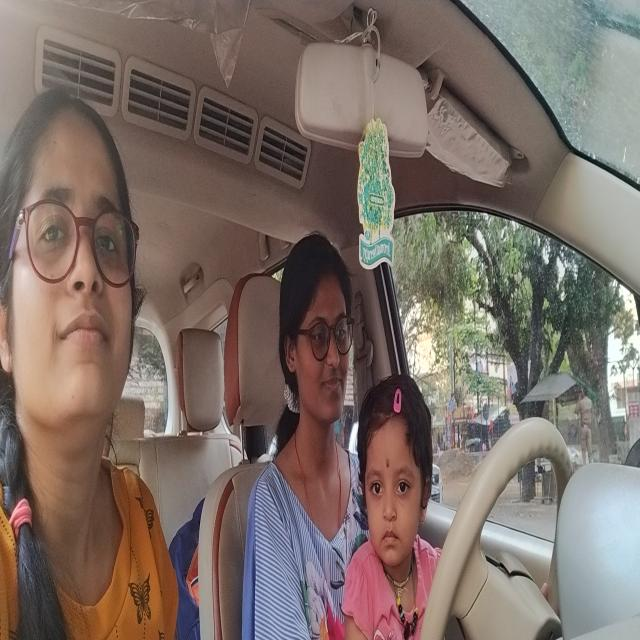child: (357, 372, 438, 580)
person: (1, 90, 143, 443), (278, 229, 358, 436)
